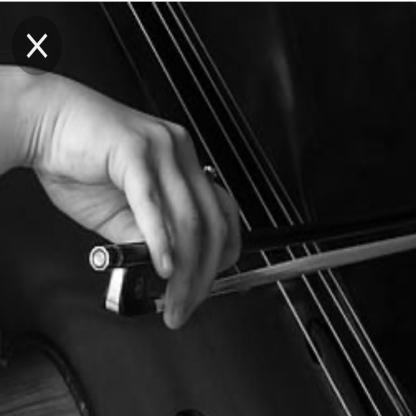good: (104, 100, 262, 326)
